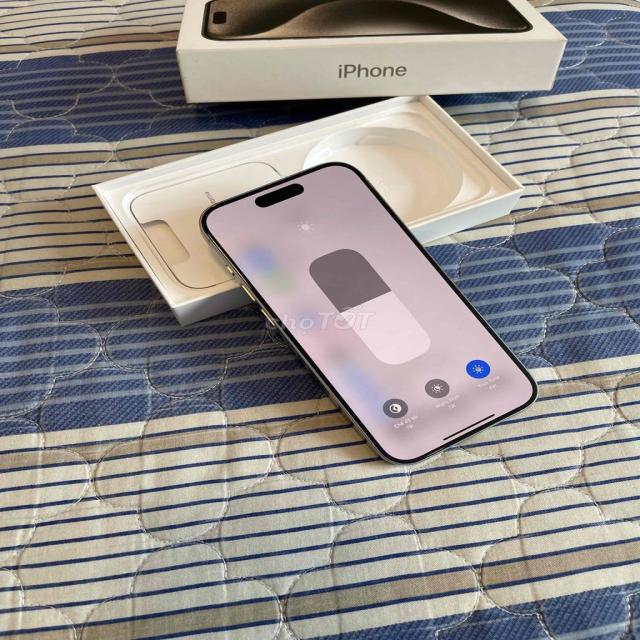gen_15: (154, 158, 546, 473)
